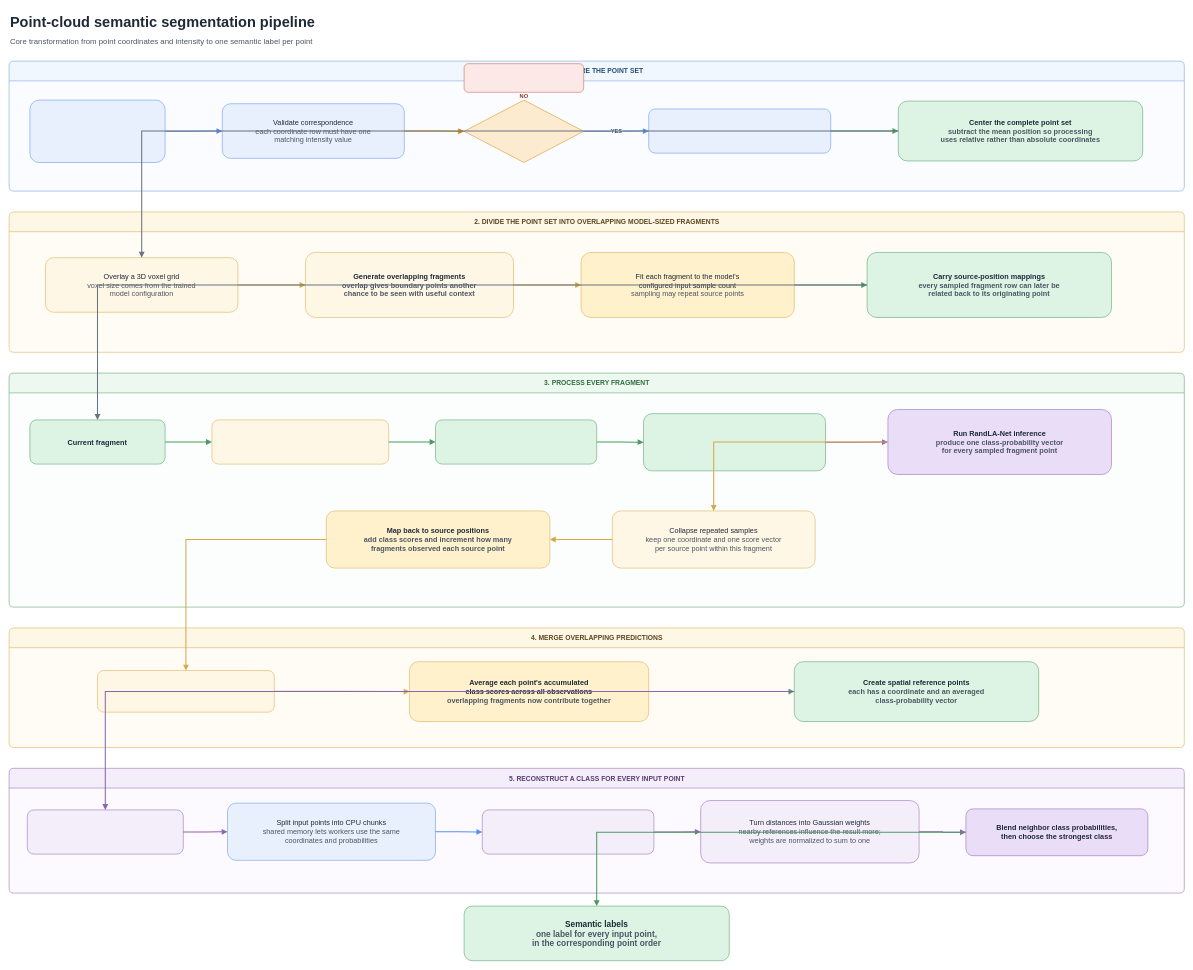
The diagram is 1193 pixels wide and 970 high, and some of its shapes have lost their labels. The shapes that lost their labels are listed below. From the top down, each one's centre as x and y in pixels, then its label:
At point (524, 77): "Return empty labels".
At point (97, 131): "Point coordinates + point intensity".
At point (524, 131): "Any points?".
At point (739, 130): "Optionally normalize intensity disabled in the default configuration".
At point (300, 441): "Preserve fragment coordinates for later spatial reconstruction".
At point (516, 441): "Center coordinates within the current fragment".
At point (734, 442): "Create model features centered X, Y, Z and intensity for every sampled point".
At point (185, 691): "Keep points observed by at least one model fragment".
At point (105, 831): "Build a KD-tree from the spatial reference points".
At point (568, 831): "Find nearby reference points for every input point".
